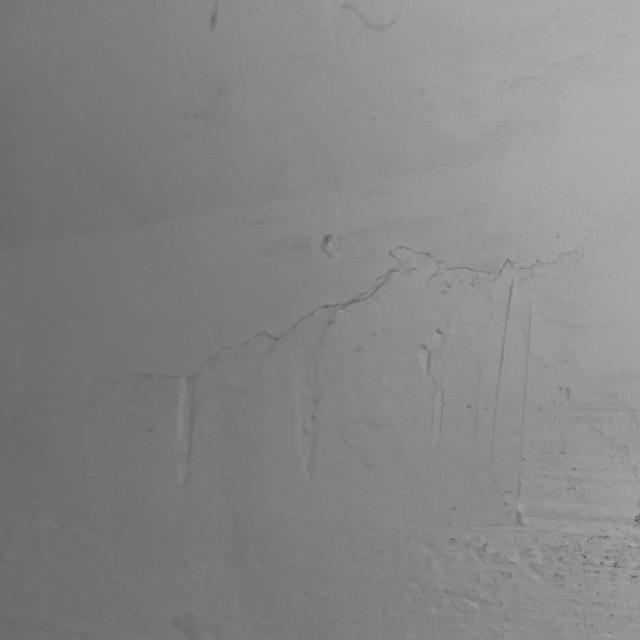rough and patchy surface: (71, 226, 640, 628)
